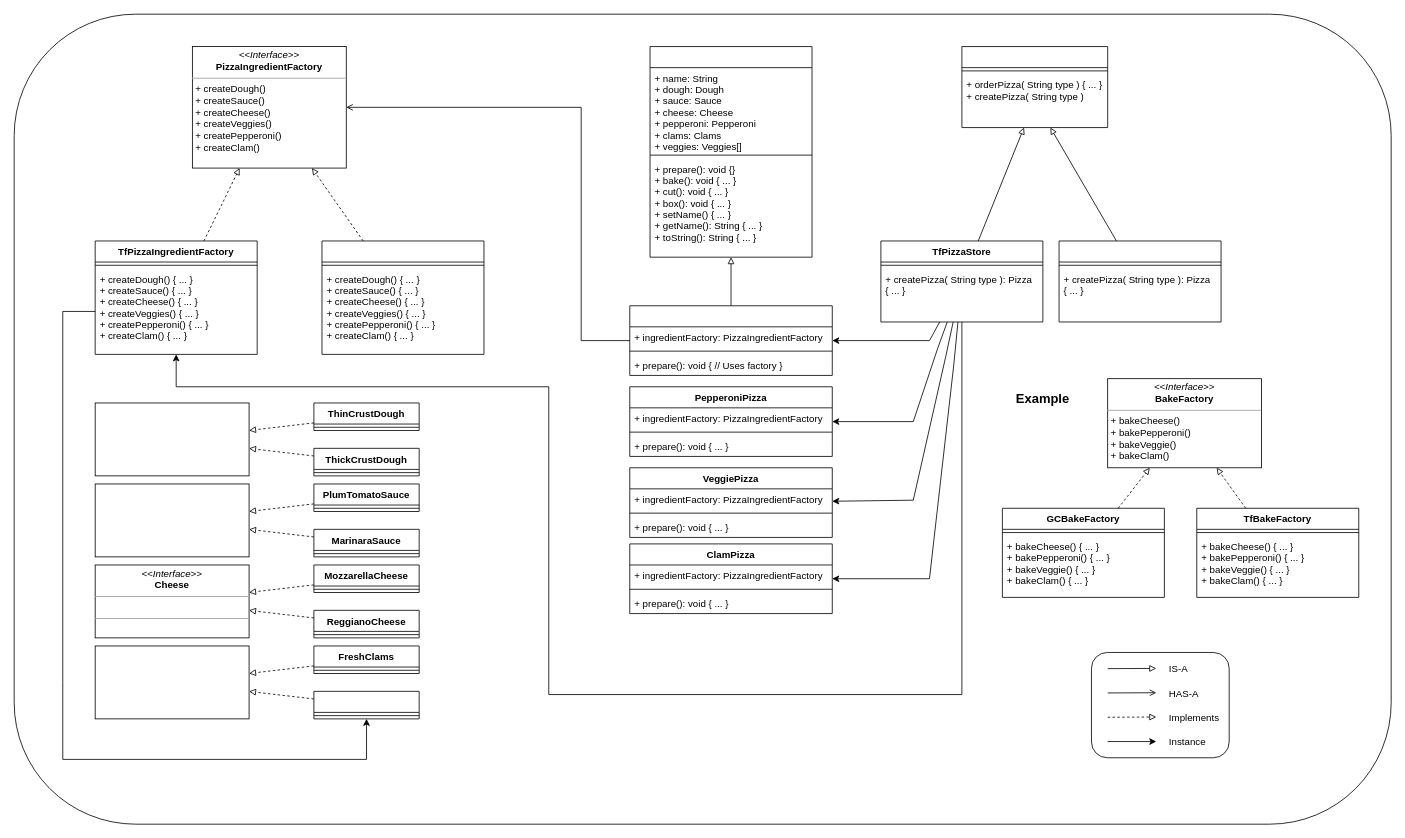
This 1405x838 diagram has some shape labels left out. The shapes that lost their labels are listed below. From the top down, each one's box as (x1, y1, x2, y2) in pixels, then its label:
(961, 46, 1108, 128): PizzaStore
(649, 46, 812, 257): Pizza
(321, 240, 484, 354): GCPizzaIngredientFactory
(1058, 240, 1221, 322): GCPizzaStore
(629, 305, 832, 375): CheesePizza
(94, 402, 249, 476): <<Interface>> Dough
(94, 483, 249, 557): <<Interface>> Sauce
(94, 645, 249, 719): <<Interface>> Clams
(313, 691, 419, 719): FrozenClams
